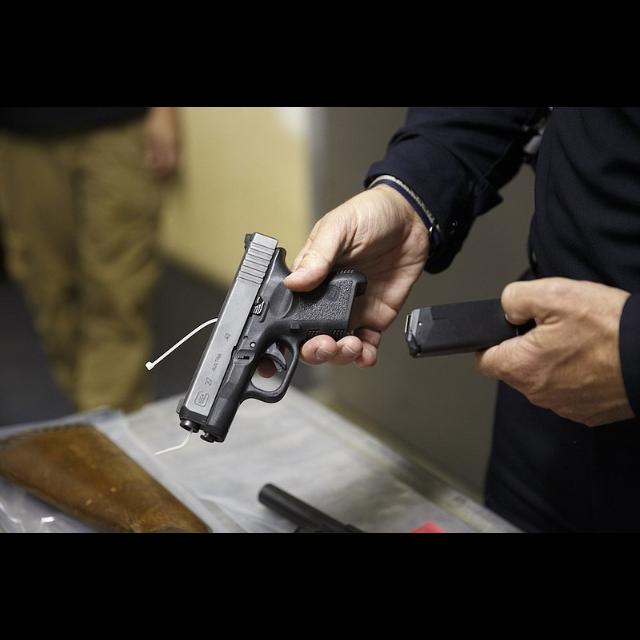handgun: (173, 228, 373, 444)
